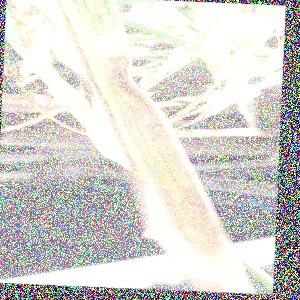Leaf_Blast: (60, 0, 137, 167)
